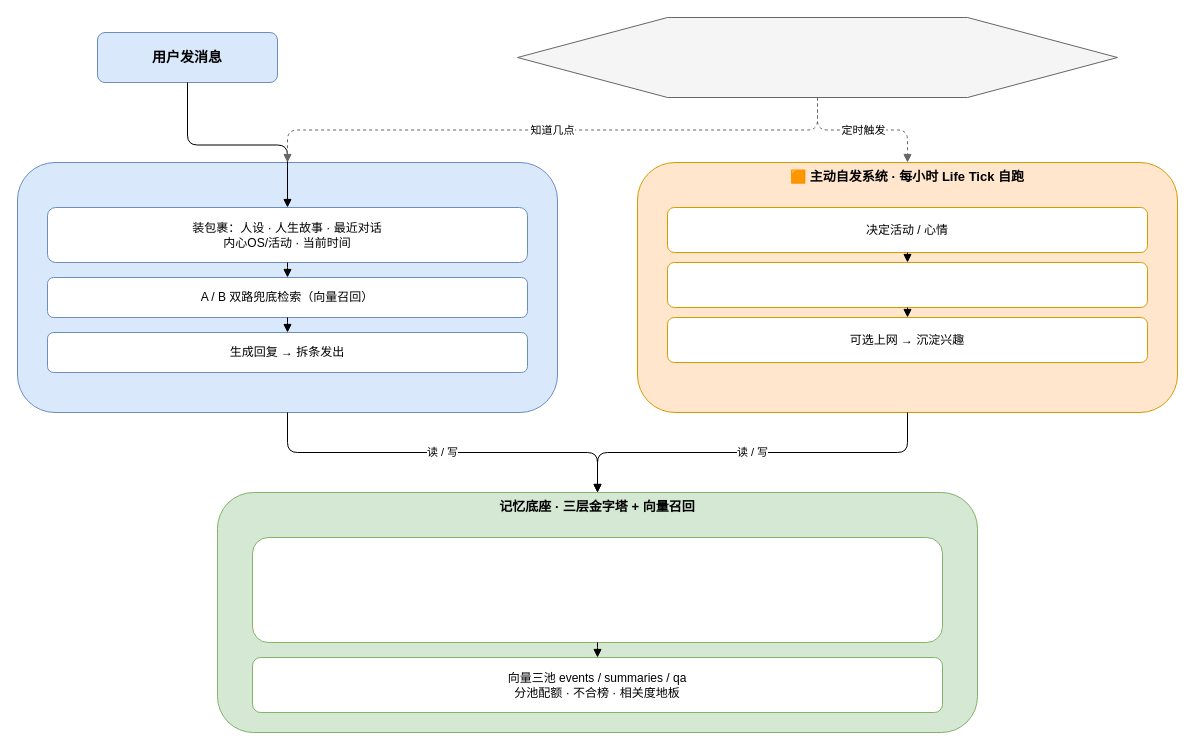
This 1195x750 diagram has some shape labels left out. The box of each missing label's shape, as (x1, y1, x2, y2) in pixels:
Tier1 大事件 结构化 · 状态层常驻 Tier2 摘要 轻头 + 自由文本正文 Tier3 原始存档 永不删除: (252, 536, 942, 642)
时间感知 · 共享底层 知道几点 · 定时触发 · 深夜催睡: (516, 16, 1118, 98)
要不要主动找你: (666, 262, 1148, 308)
🟦 被动响应系统 · 用户发消息时触发: (16, 162, 558, 412)
